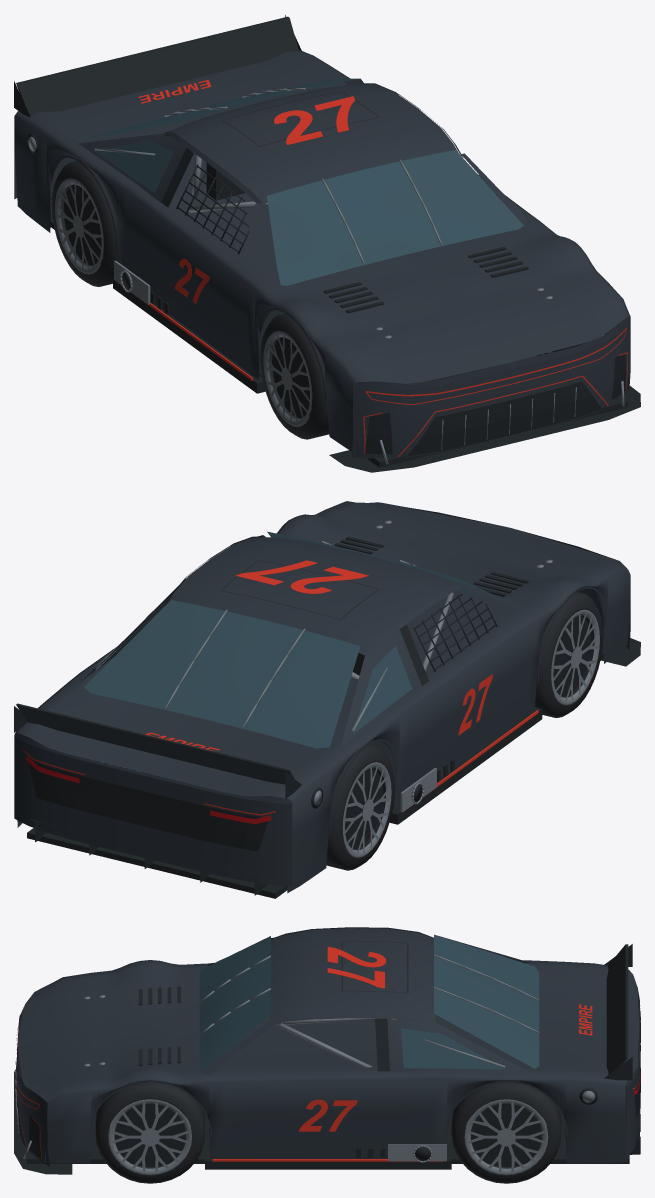
The model's file is empire-gen7.glb.
3 renders of one model, top to bottom at view 1: azimuth 30°, elevation 25°; view 2: azimuth 150°, elevation 25°; view 3: azimuth 270°, elevation 25°, orthographic. The views are drawn at different scales.
Parts seen in each view (by area): view 1: Continuous composite shell, Curved windshield, Compound crowned roof, Rounded front bumper, Deck blade spoiler, Wide lower radiator opening, Wheel 3 - Slick tire, Wheel 1 - Slick tire, Stepped front splitter, Triangular quarter glass, Nose upper shoulder, Rocker skirt (+14 smaller); view 2: Continuous composite shell, Raked rear glass, Compound crowned roof, Upright rear fascia, Rear recessed bumper panel, Deck blade spoiler, Wheel 1 - Slick tire, Wheel 3 - Slick tire, Flat underfloor, Sculpted quarter-window surround, Triangular quarter glass, Rocker skirt (+13 smaller); view 3: Continuous composite shell, Compound crowned roof, Raked rear glass, Curved windshield, Wheel 2 - Slick tire, Wheel 4 - Slick tire, Deck blade spoiler, Triangular quarter glass.001, Wheel 2 - Recessed brake disc.001, Wheel 4 - Recessed brake disc.001, Rocker skirt.001, Sculpted quarter-window surround.001 (+19 smaller).
Boxes of the visible parts, x1,y1,x2,y2 form: Continuous composite shell: (14, 50, 630, 455); Curved windshield: (267, 150, 523, 285); Compound crowned roof: (168, 84, 458, 204); Rounded front bumper: (351, 323, 630, 458); Deck blade spoiler: (16, 16, 298, 115); Wide lower radiator opening: (408, 381, 601, 455); Wheel 3 - Slick tire: (260, 313, 361, 439); Wheel 1 - Slick tire: (51, 160, 119, 286); Stepped front splitter: (329, 386, 640, 472); Triangular quarter glass: (94, 141, 173, 192); Nose upper shoulder: (353, 316, 630, 391); Rocker skirt: (113, 277, 265, 393); Continuous composite shell: (15, 501, 630, 893); Raked rear glass: (84, 600, 360, 748); Compound crowned roof: (169, 537, 458, 654); Upright rear fascia: (14, 736, 291, 886); Rear recessed bumper panel: (29, 761, 268, 851); Deck blade spoiler: (16, 703, 294, 784); Wheel 1 - Slick tire: (326, 744, 394, 870); Wheel 3 - Slick tire: (535, 591, 603, 717); Flat underfloor: (27, 629, 603, 898); Sculpted quarter-window surround: (340, 630, 421, 746); Triangular quarter glass: (353, 645, 412, 733); Rocker skirt: (389, 707, 542, 824); Continuous composite shell: (17, 960, 639, 1163); Compound crowned roof: (269, 928, 435, 1021); Raked rear glass: (434, 934, 539, 1068); Curved windshield: (199, 936, 270, 1070); Wheel 2 - Slick tire: (451, 1081, 561, 1183); Wheel 4 - Slick tire: (95, 1081, 204, 1183); Deck blade spoiler: (606, 944, 628, 1074); Triangular quarter glass.001: (401, 1028, 505, 1069); Wheel 2 - Recessed brake disc.001: (470, 1103, 542, 1167); Wheel 4 - Recessed brake disc.001: (114, 1103, 185, 1167); Rocker skirt.001: (205, 1156, 451, 1169); Sculpted quarter-window surround.001: (387, 1019, 530, 1072).
Bounding box in the file's own units: 2.14 × 1.31 × 4.58.
